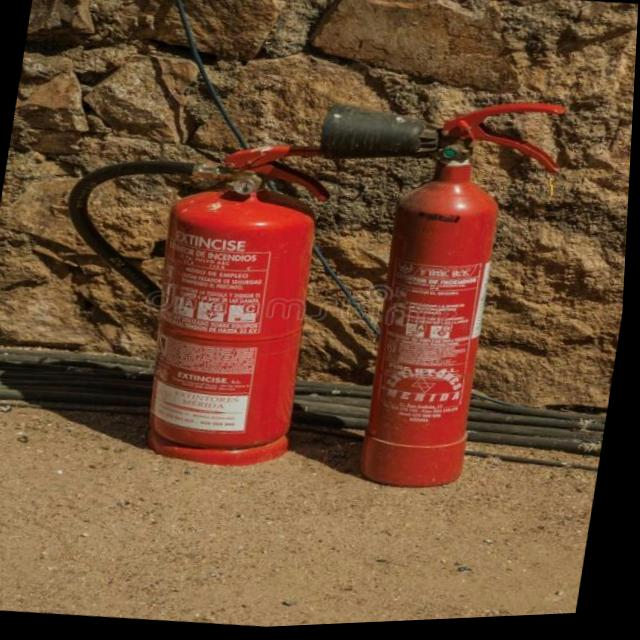FireExtinguisher: (266, 76, 583, 512), (22, 117, 367, 490)
